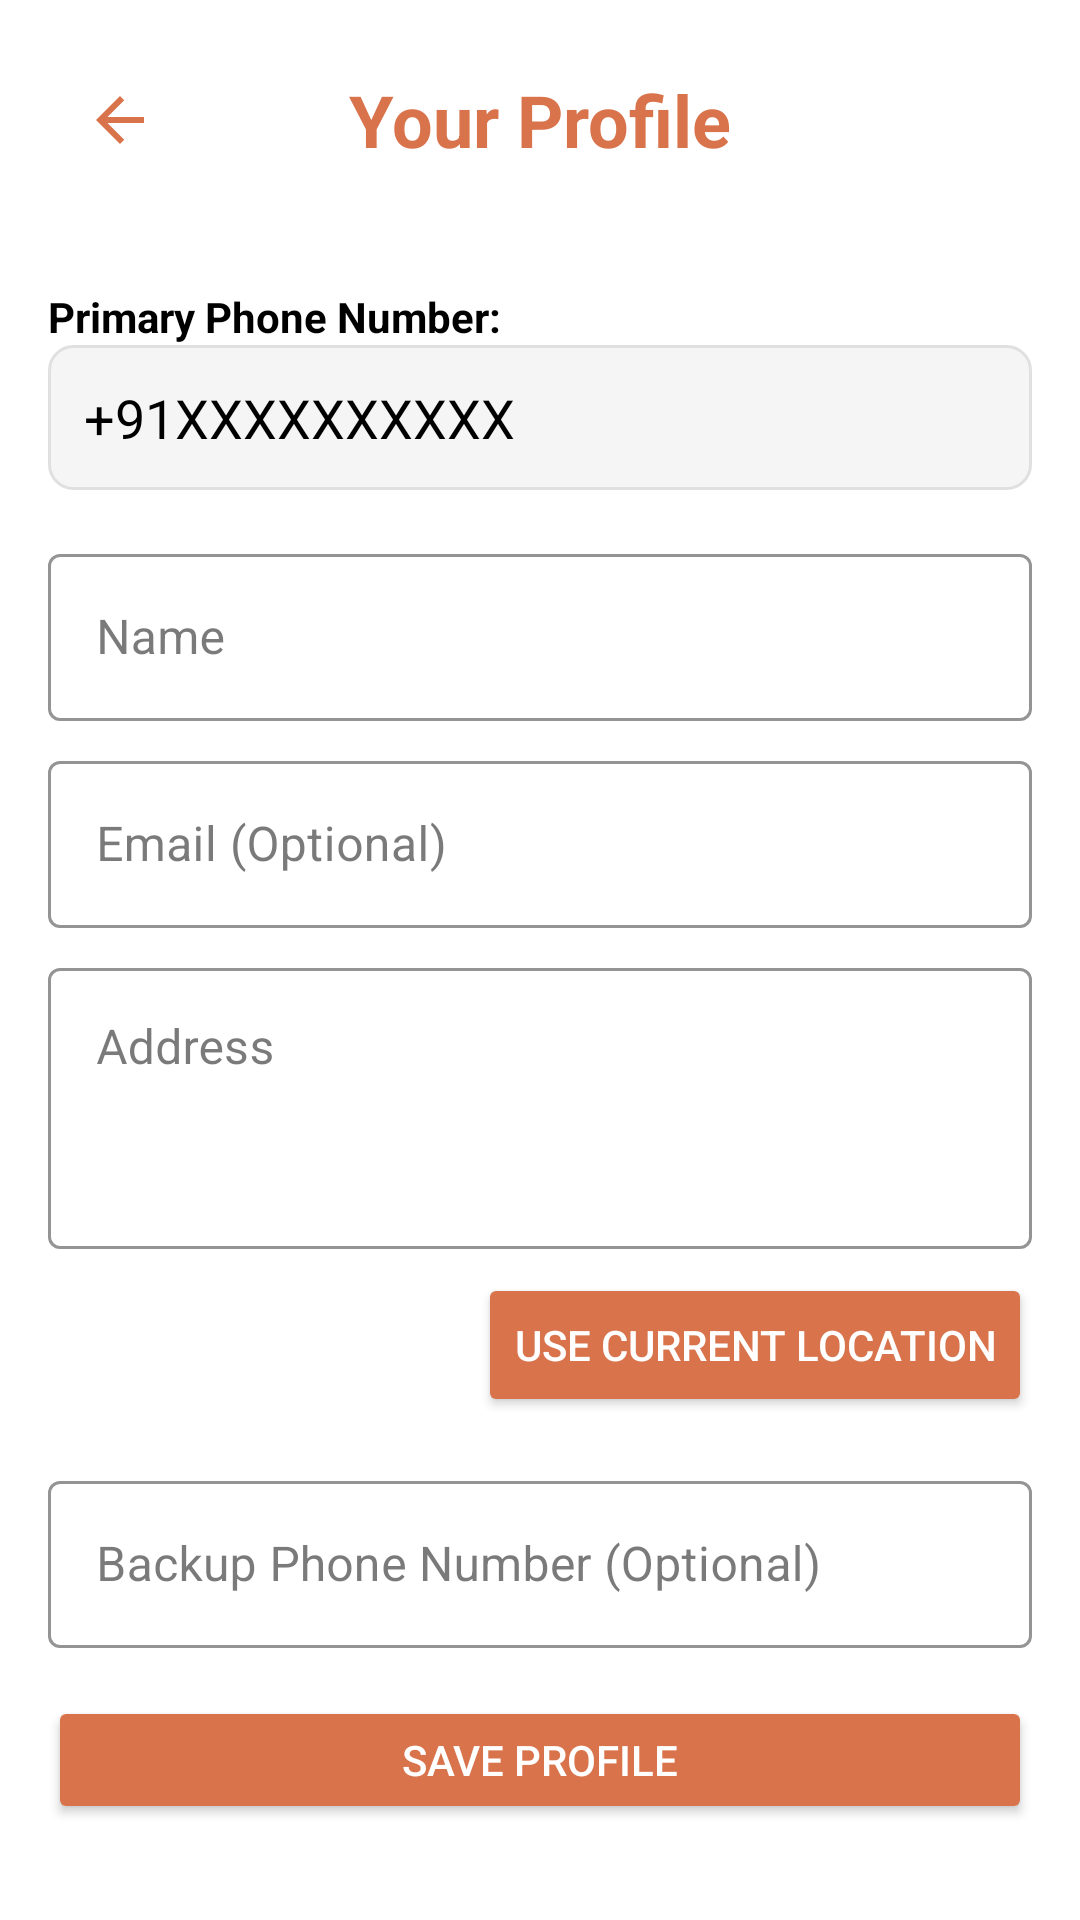

Screen size 1080*1920. Icon name, then its center in pixels as (x=x, y=y):
Back button: (x=120, y=120)
